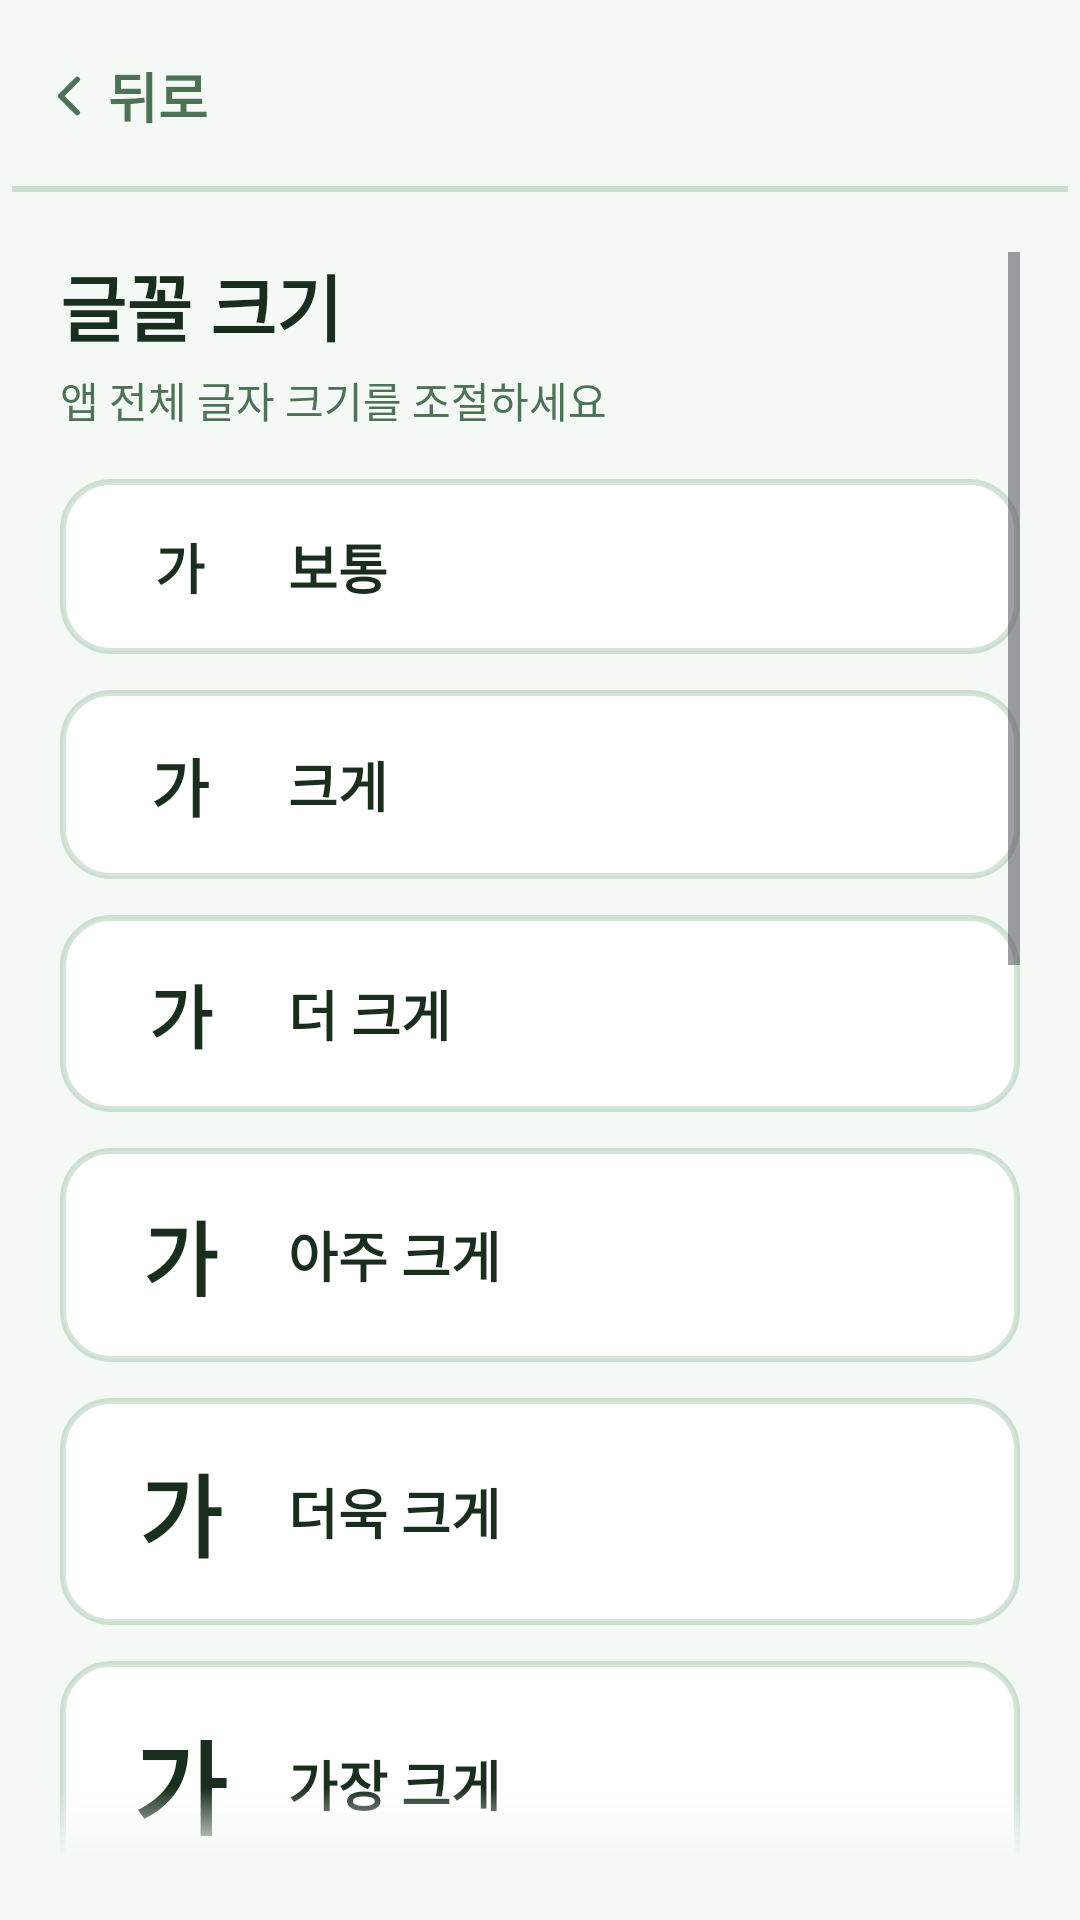

Screen size 1080 × 1920. Icon name, then its center in pixels as point (x, y):
chevron left: point (69, 96)
